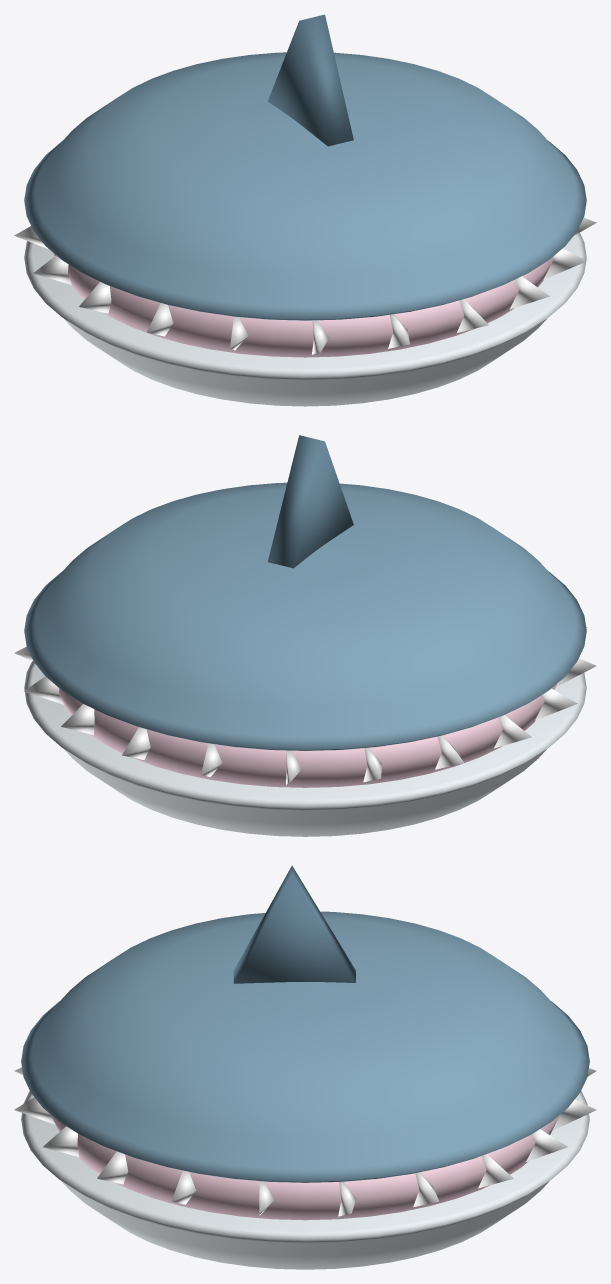
The model's file is item_shark_macaron.glb.
3 views of the same model, one above another, from view 1: azimuth 30°, elevation 25°; view 2: azimuth 150°, elevation 25°; view 3: azimuth 270°, elevation 25° (orthographic).
Visible parts, largest first — view 1: SharkMacaron; view 2: SharkMacaron; view 3: SharkMacaron.
Part boxes in pixels (x1,y1,x2,y2): SharkMacaron: (14,14,596,406); SharkMacaron: (14,435,596,836); SharkMacaron: (14,865,596,1269).
Bounding box in the file's own units: 0.1738 × 0.11 × 0.1738.
